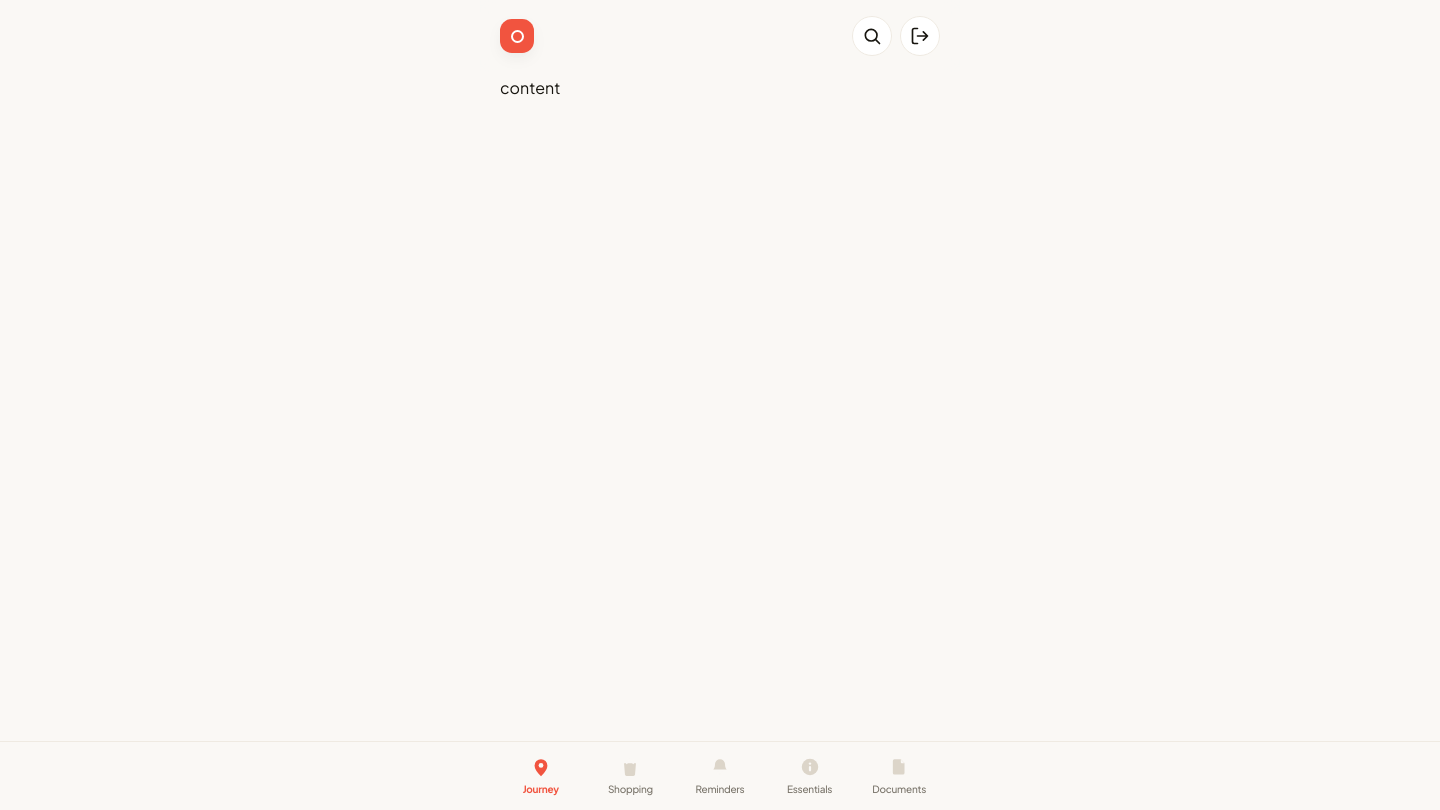
Test: signing out › is offered to the travelers too
Click the button named "Sign out" at (920, 36), box [900,16,940,56]
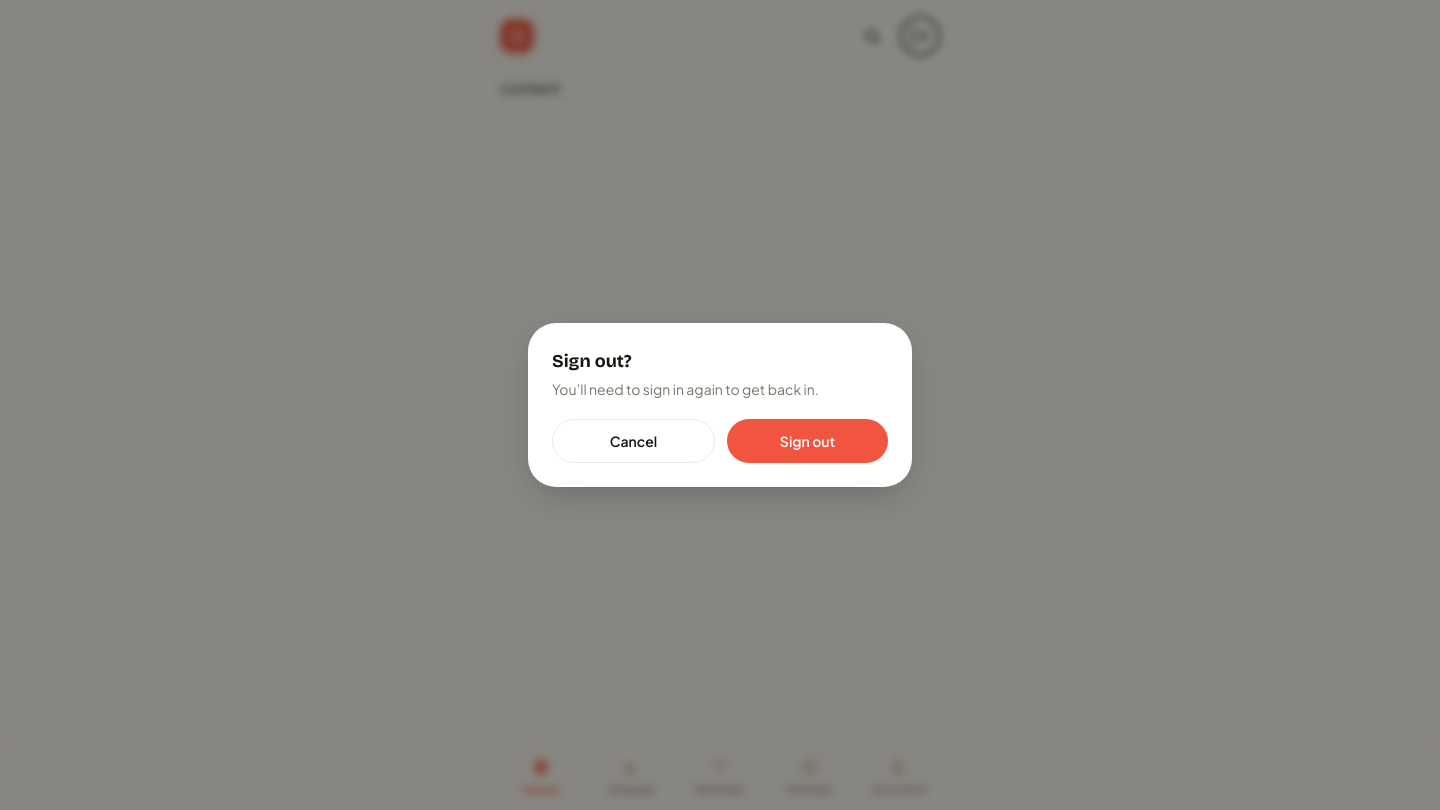
Expected: the text "You’ll need to sign in again to get back in." is shown, [552,380,819,398]
